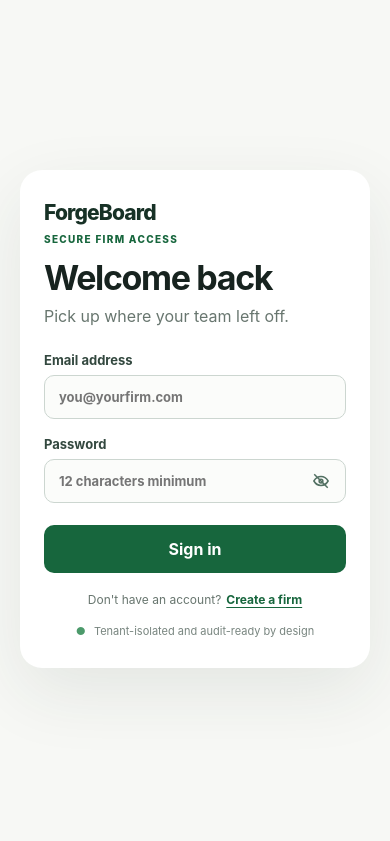
it: App › defaults to sign-in and switches to firm creation from the mobile prompt
The image size is (390, 841).
Expected: the text "ForgeBoard" is shown, [44,200,156,225]
Expected: the heading "Welcome back" is shown, [44,257,272,298]
Click the button with aria-label "Create a firm from sign-in": {"x": 264, "y": 600} [226,592,302,607]
(page scrolled)
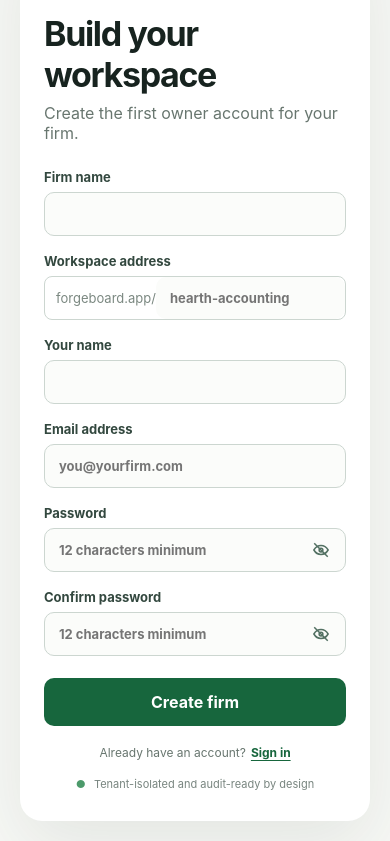
Now the heading "Build your workspace" is shown, box [44,13,216,95]
Now the field labelled "Firm name" is shown, box [44,192,346,236]
Now the text "Already have an account?" is shown, box [99,745,246,760]
